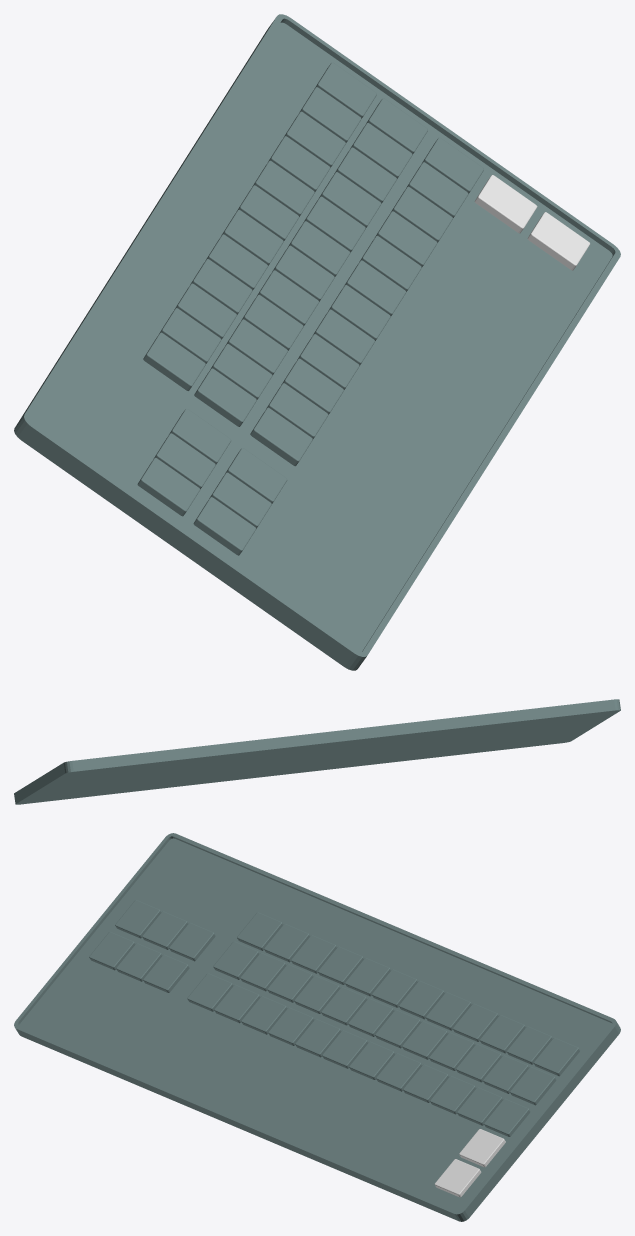
File: Keyboard.fbx
3 views of the same model, one above another, from view 1: azimuth 30°, elevation 25°; view 2: azimuth 150°, elevation 25°; view 3: azimuth 270°, elevation 25° (orthographic). The views are drawn at different scales.
Visible parts, largest first — view 1: Cube.191, Scan, Plan; view 2: Cube.191; view 3: Cube.191, Scan, Plan.
Boxes of the visible parts, x1,y1,x2,y2 form: Cube.191: (14,14,620,670); Scan: (474,175,537,233); Plan: (527,212,590,270); Cube.191: (14,699,620,804); Cube.191: (14,833,620,1221); Scan: (459,1129,505,1167); Plan: (434,1159,481,1197).
Bounding box in the file's own units: 49.44 × 12.35 × 49.44.
